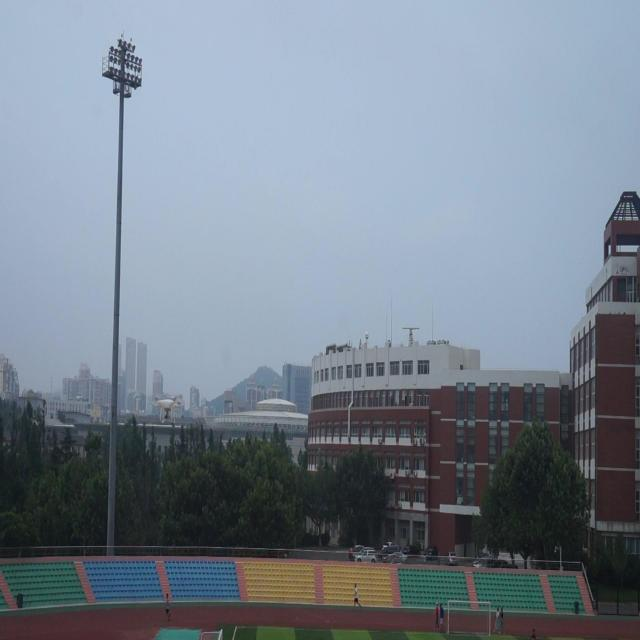UAV: (154, 396, 185, 423)
